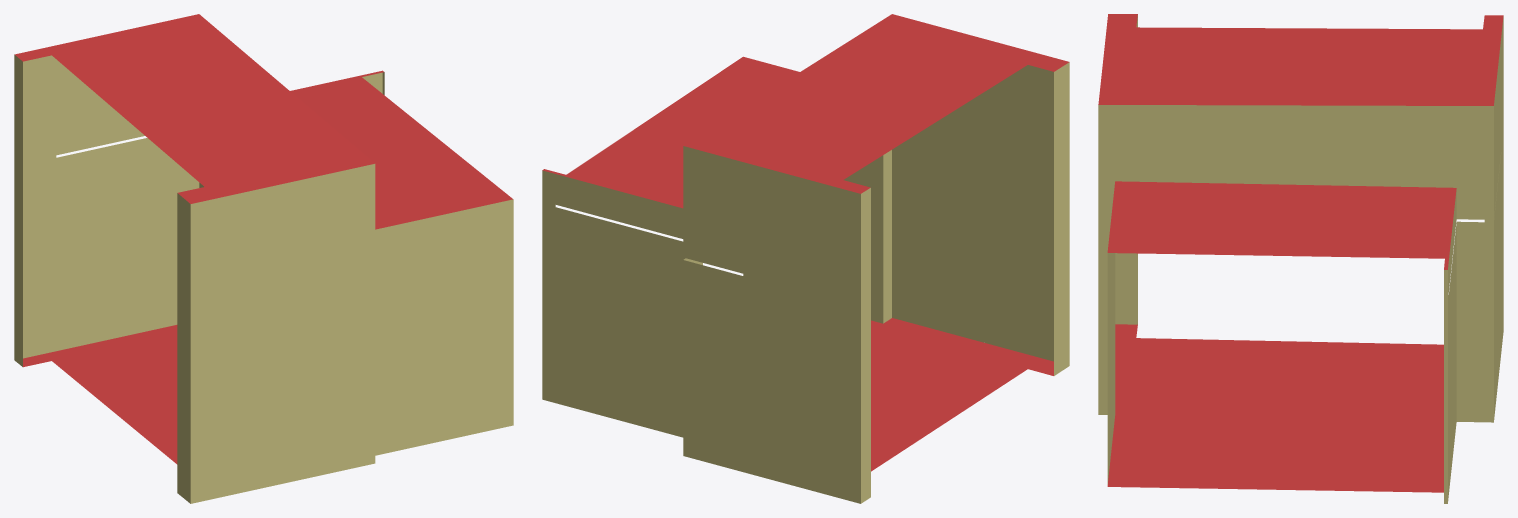
The picture shows the model from 3 angles, left to right: view 1: azimuth 30°, elevation 25°; view 2: azimuth 150°, elevation 25°; view 3: azimuth 270°, elevation 25°; orthographic projection. The views are drawn at different scales.
Visible parts, largest first — view 1: group_4, group_7, group_3, group_6, group_5; view 2: group_4, group_7, group_3, group_5, group_6; view 3: group_4, group_3, group_5, group_6, group_8, group_7.
Part boxes in pixels (x1,y1,x2,y2): group_4: [14, 54, 375, 503]; group_7: [362, 72, 513, 455]; group_3: [14, 14, 374, 203]; group_6: [290, 70, 512, 229]; group_5: [23, 325, 177, 464]; group_4: [683, 62, 1069, 503]; group_7: [542, 155, 883, 437]; group_3: [683, 14, 1069, 193]; group_5: [871, 318, 1053, 471]; group_6: [542, 56, 799, 208]; group_4: [1098, 15, 1503, 422]; group_3: [1098, 14, 1503, 105]; group_5: [1115, 324, 1443, 421]; group_6: [1107, 181, 1456, 269]; group_8: [1107, 415, 1443, 492]; group_7: [1107, 189, 1456, 503].
Size of the model in its own units: 15.59 by 14.84 by 12.79.
